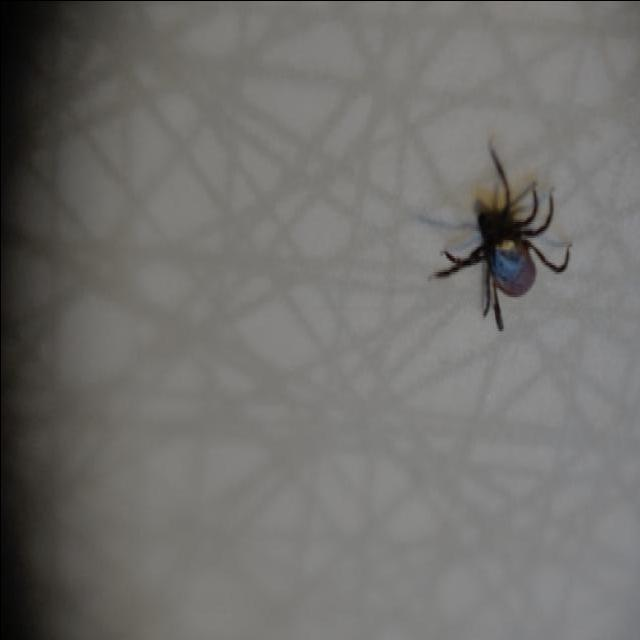Ixodes Ricinus-F: (428, 146, 571, 330)
